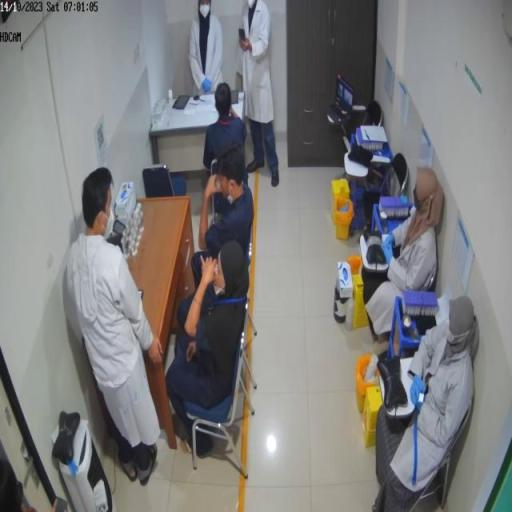person: (68, 168, 179, 486), (375, 296, 480, 508), (167, 242, 251, 440), (361, 168, 444, 331), (198, 143, 255, 278), (239, 1, 280, 188), (204, 84, 249, 177), (189, 1, 224, 95)
